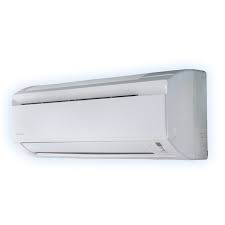ac: (8, 65, 216, 163)
